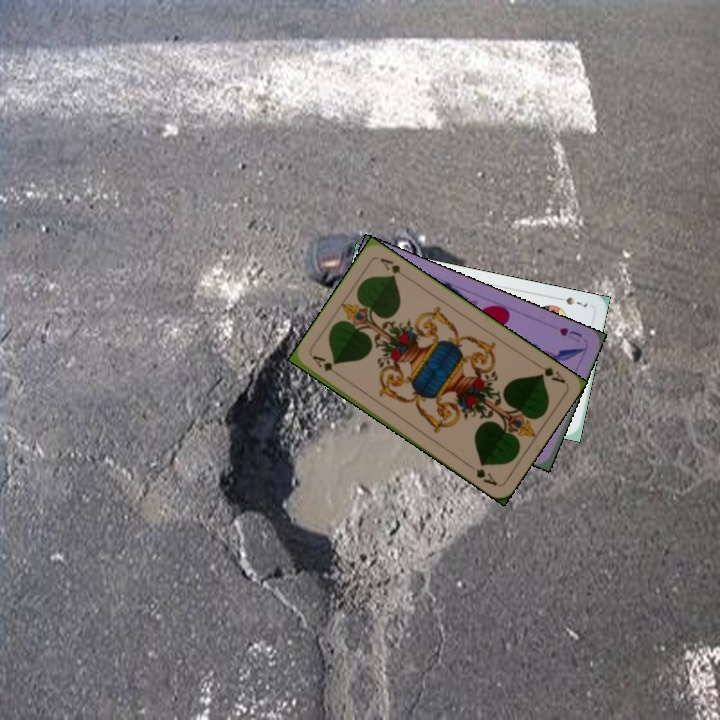GA: (308, 351, 344, 380), (535, 363, 568, 386)
HU: (555, 323, 585, 345)
S7: (552, 293, 590, 310)
